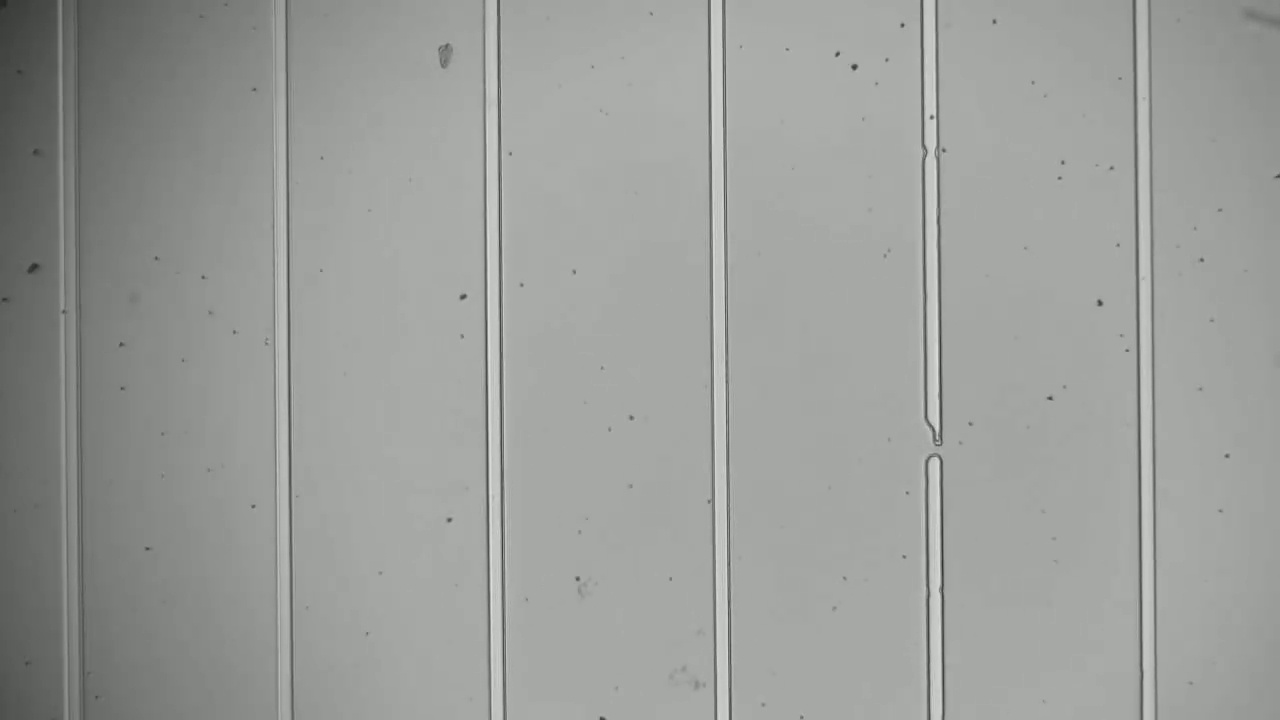edge_bite: (914, 136, 943, 168)
open: (912, 408, 952, 471)
